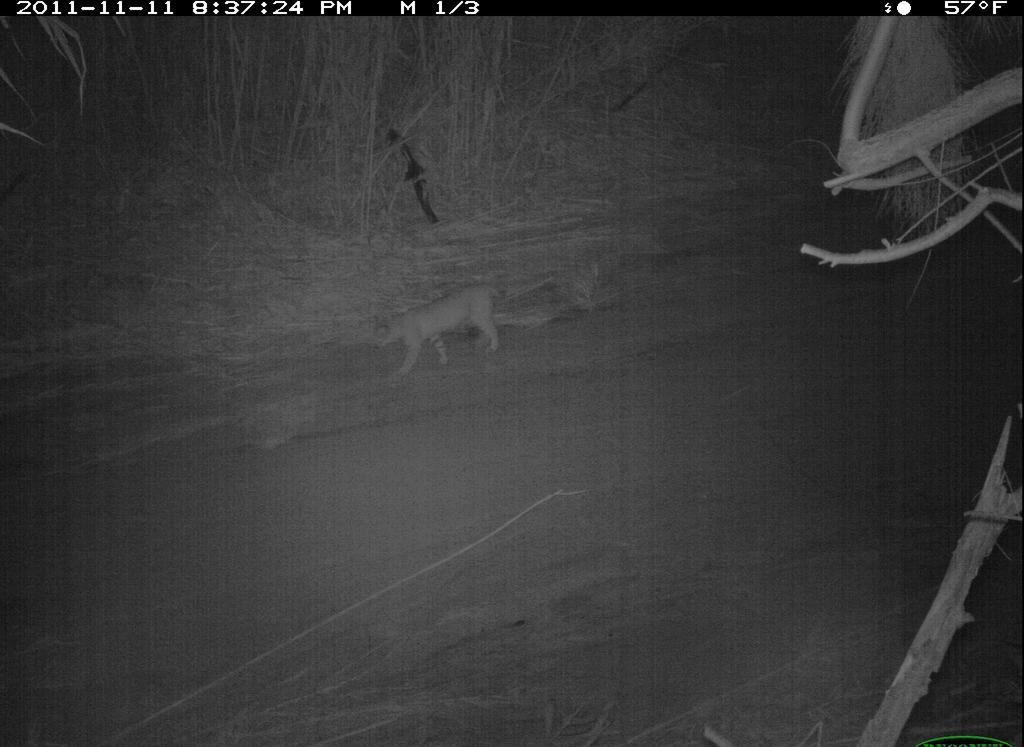bobcat: (365, 278, 518, 385)
